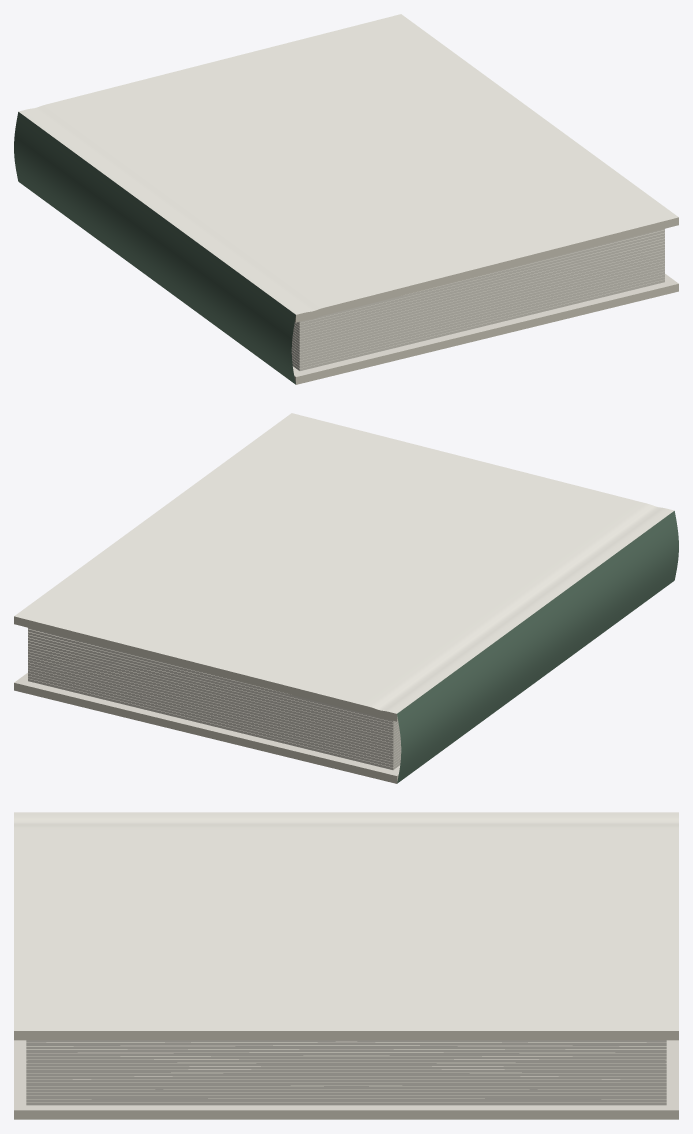
The model's file is hard-80.glb.
3 renders of one model, top to bottom at view 1: azimuth 30°, elevation 25°; view 2: azimuth 150°, elevation 25°; view 3: azimuth 270°, elevation 25°, orthographic. The views are drawn at different scales.
Visible parts, largest first — view 1: FrontCover, Spine, PaperBlock, BackCover; view 2: FrontCover, Spine, PaperBlock, BackCover; view 3: FrontCover, PaperBlock, BackCover.
Boxes of the visible parts, left/top/right/bottom form: FrontCover: left=18, top=14, right=678, bottom=322; Spine: left=14, top=112, right=295, bottom=384; PaperBlock: left=291, top=229, right=664, bottom=370; BackCover: left=292, top=274, right=678, bottom=384; FrontCover: left=14, top=413, right=674, bottom=721; Spine: left=397, top=511, right=678, bottom=783; PaperBlock: left=28, top=628, right=401, bottom=769; BackCover: left=14, top=673, right=400, bottom=783; FrontCover: left=14, top=812, right=678, bottom=1040; PaperBlock: left=26, top=1040, right=666, bottom=1105; BackCover: left=14, top=1040, right=678, bottom=1119.
Bounding box in the file's own units: 1.97 × 0.361 × 2.45.
